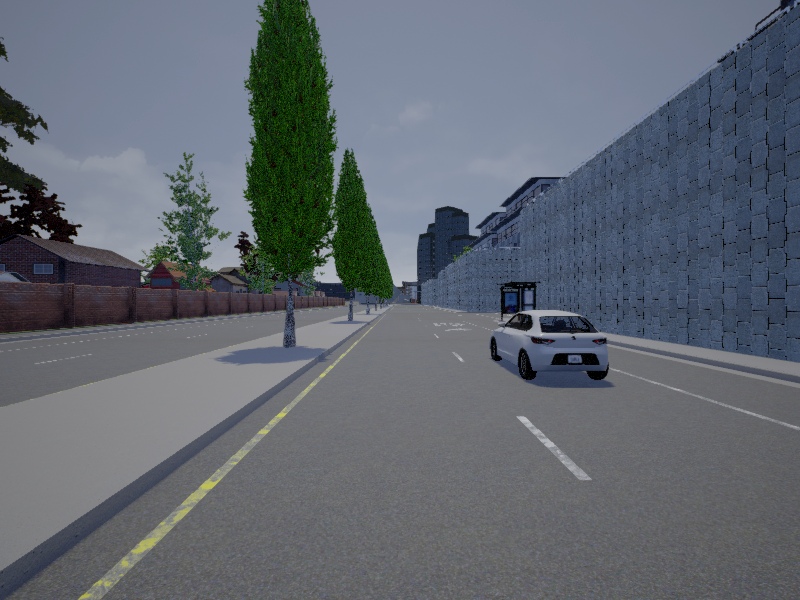Benign: (490, 311, 610, 378)
